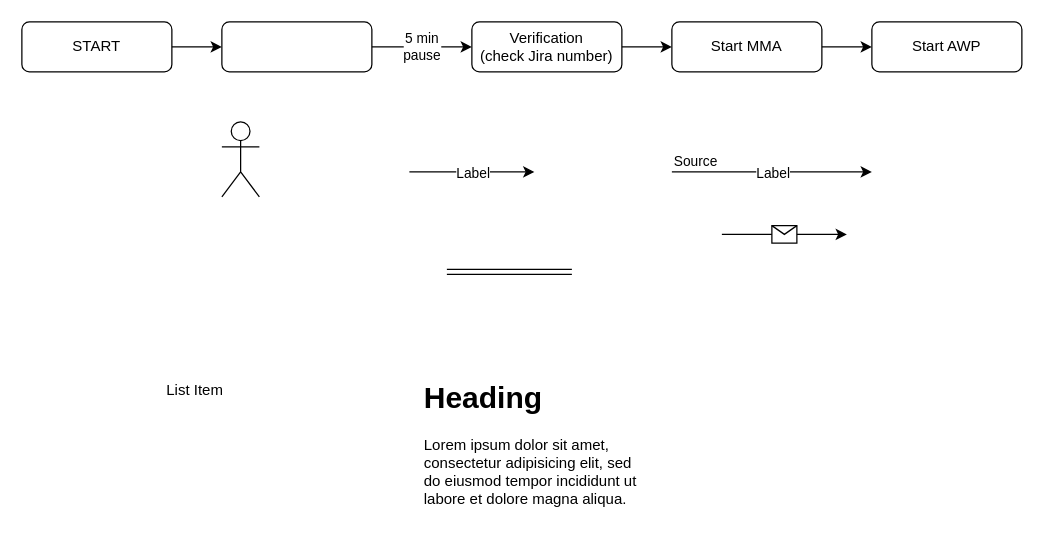
This 1044x548 diagram has some shape labels left out. The shapes that lost their labels are listed below. From the top down, each one's centre as x and y in pixels, then its label:
At point 296,46: "Athentication (not used)".
At point 240,159: "Actor".
